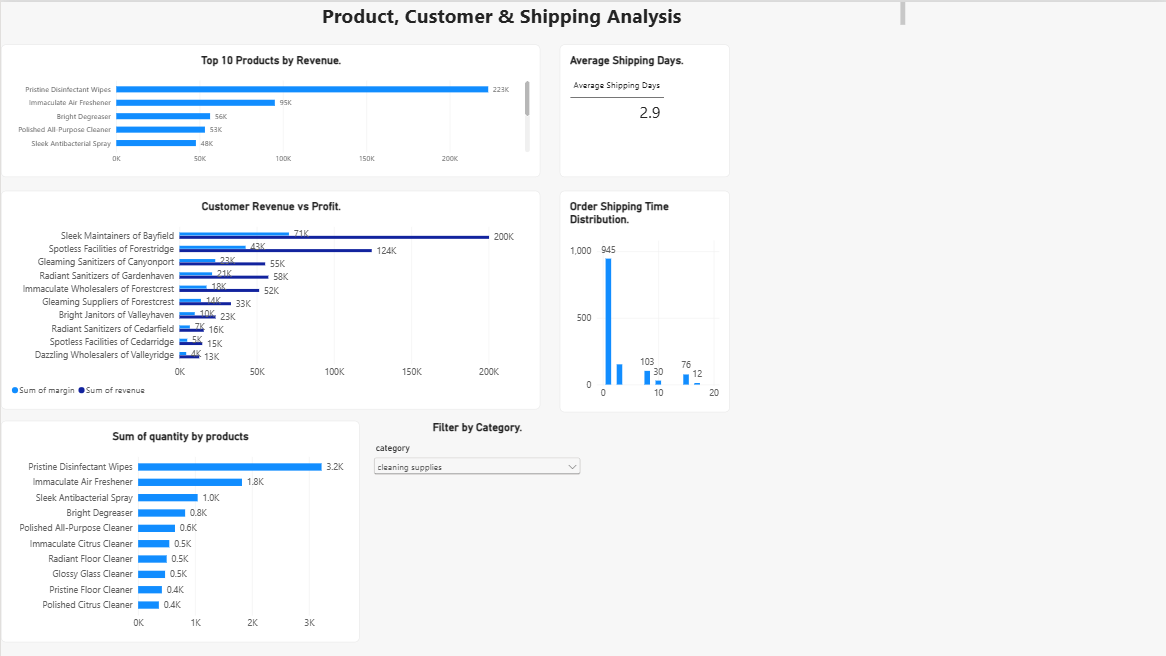

The page's visual inventory and layout, read from the dashboard file:
{"tool":"powerbi","page":{"name":"Page 2","canvas":[1920,1080],"ordinal":1},"visuals":[{"type":"clusteredBarChart","title":"Top 10 Products by Revenue.","fields":{"Category":["financial_data_cleaned.product"],"Y":["Sum(financial_data_cleaned.revenue)"]},"box":[0,70,888,218],"z":0},{"type":"clusteredBarChart","title":"Customer Revenue vs Profit.","fields":{"Category":["financial_data_cleaned.customer"],"Y":["Sum(financial_data_cleaned.margin)","Sum(financial_data_cleaned.revenue)"]},"box":[0,310,888,360],"z":1},{"type":"clusteredBarChart","title":"Sum of quantity by products","fields":{"Category":["financial_data_cleaned.product"],"Y":["Sum(financial_data_cleaned.quantity)"]},"box":[0,690,590,365],"z":2},{"type":"tableEx","title":"Average Shipping Days.","fields":{"Values":["financial_data_cleaned.Average Shipping Days"]},"box":[920,70,280,218],"z":3},{"type":"clusteredColumnChart","title":"Order Shipping Time Distribution.","fields":{"Category":["financial_data_cleaned.Shipping Days"],"Y":["CountNonNull(financial_data_cleaned.Shipping Days)"]},"box":[920,310,280,365],"z":4},{"type":"slicer","title":"Filter by Category.","fields":{"Values":["financial_data_cleaned.category"]},"box":[610,690,350,365],"z":5},{"type":"textbox","box":[528,0,960,48],"z":6}]}

Visuals, with their boxes in screenshot pixels (x1, y1, x2, y2), scaled from the page's 1920x1080 canvas onto the 1166x656 screenshot:
"Top 10 Products by Revenue." clusteredBarChart: x1=0 y1=43 x2=539 y2=175
"Customer Revenue vs Profit." clusteredBarChart: x1=0 y1=188 x2=539 y2=407
"Sum of quantity by products" clusteredBarChart: x1=0 y1=419 x2=358 y2=641
"Average Shipping Days." tableEx: x1=559 y1=43 x2=729 y2=175
"Order Shipping Time Distribution." clusteredColumnChart: x1=559 y1=188 x2=729 y2=410
"Filter by Category." slicer: x1=370 y1=419 x2=583 y2=641
textbox: x1=321 y1=0 x2=904 y2=29
